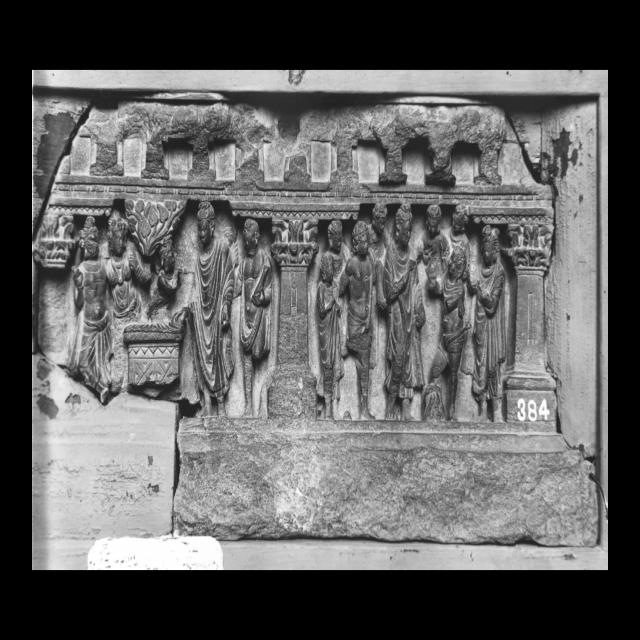buddha-standing: (189, 202, 234, 416), (382, 202, 425, 418)
